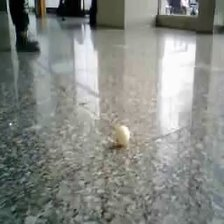w: (114, 124, 132, 146)
